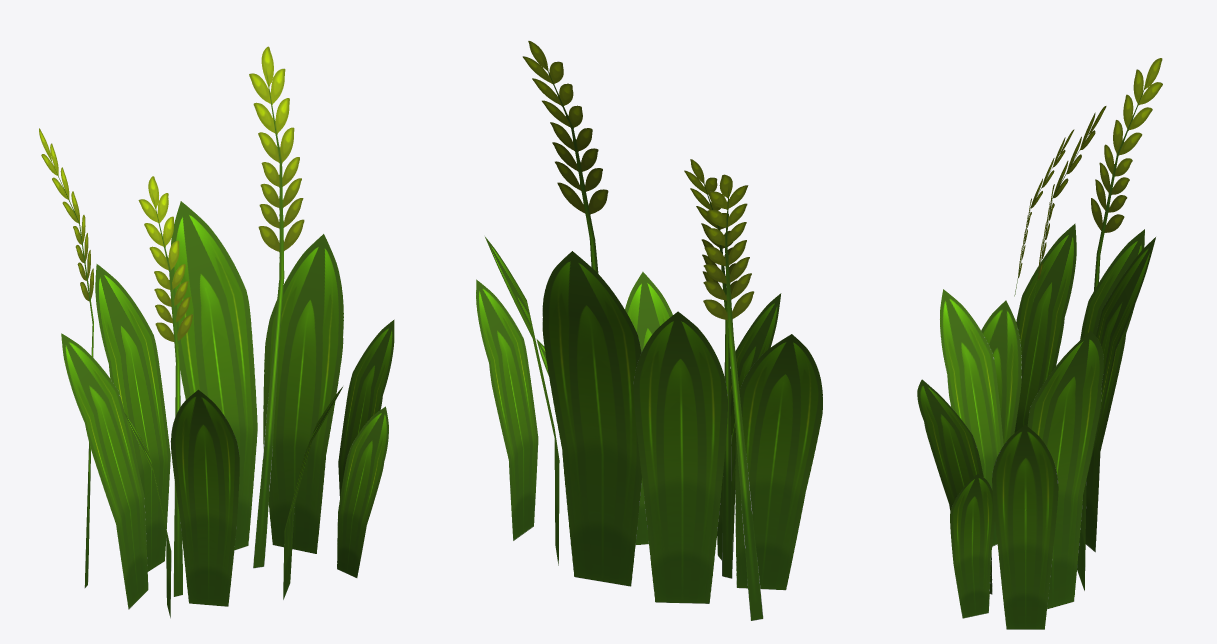
The model's file is Grass1B.glb.
3 renders of one model, left to right at view 1: azimuth 30°, elevation 25°; view 2: azimuth 150°, elevation 25°; view 3: azimuth 270°, elevation 25°, orthographic. The views are drawn at different scales.
Visible parts, largest first — view 1: Grass_01; view 2: Grass_01; view 3: Grass_01.
Part boxes in pixels (x1,y1,x2,y2): Grass_01: (39,46,394,618); Grass_01: (476,41,822,620); Grass_01: (917,58,1162,629).
Size of the model in its own units: 16.78 by 23.43 by 12.62.
Materials: 1 (1 with a texture image).
